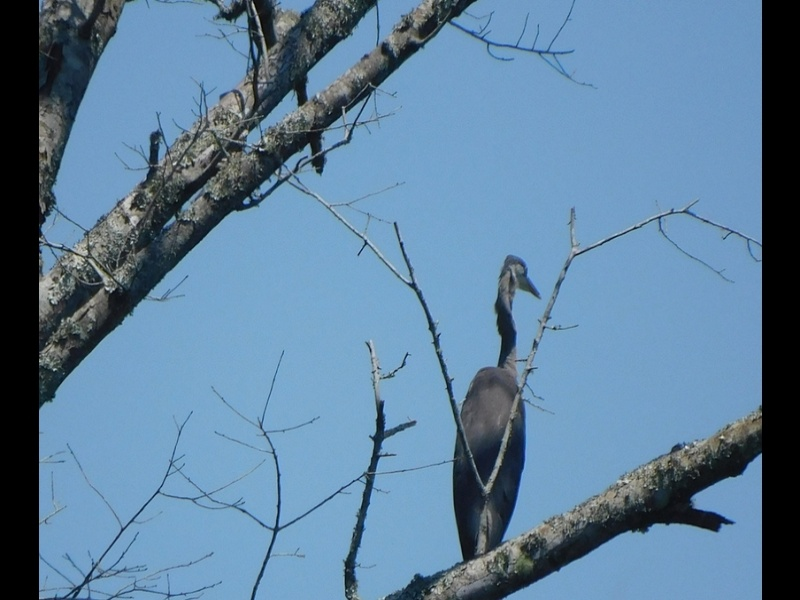heron: (448, 250, 545, 562)
